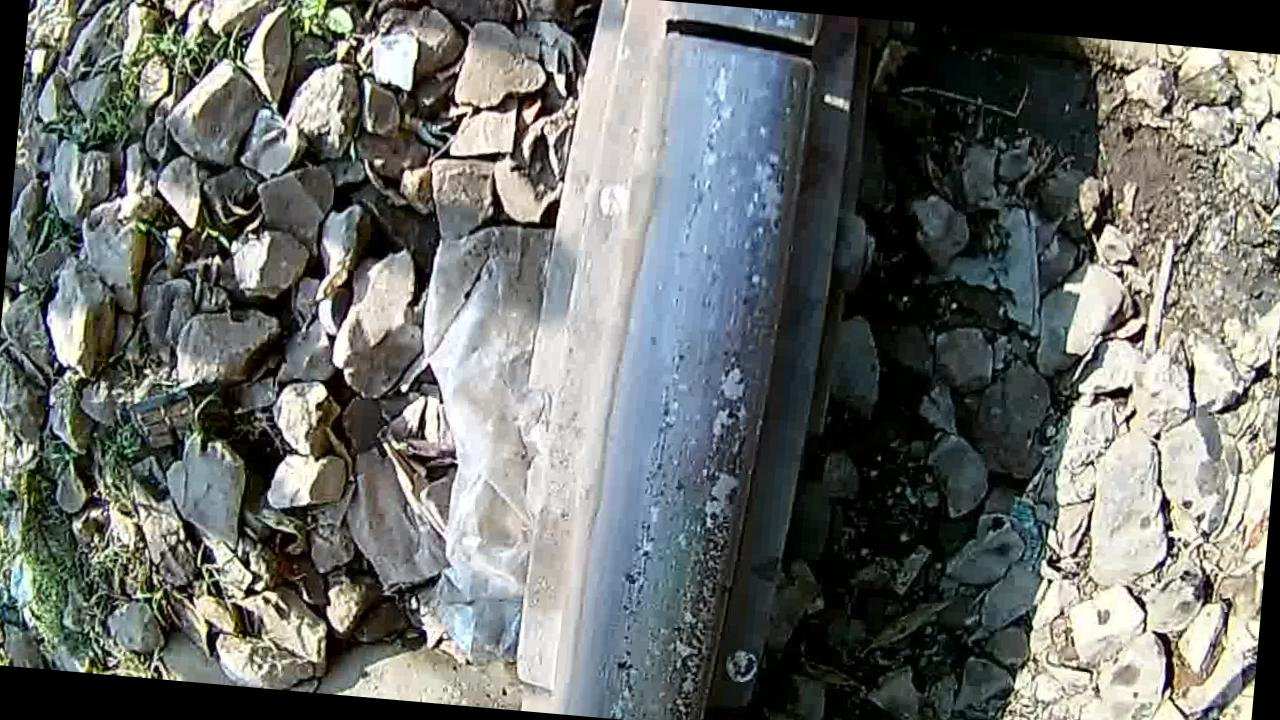clip_missing: (582, 69, 812, 720)
